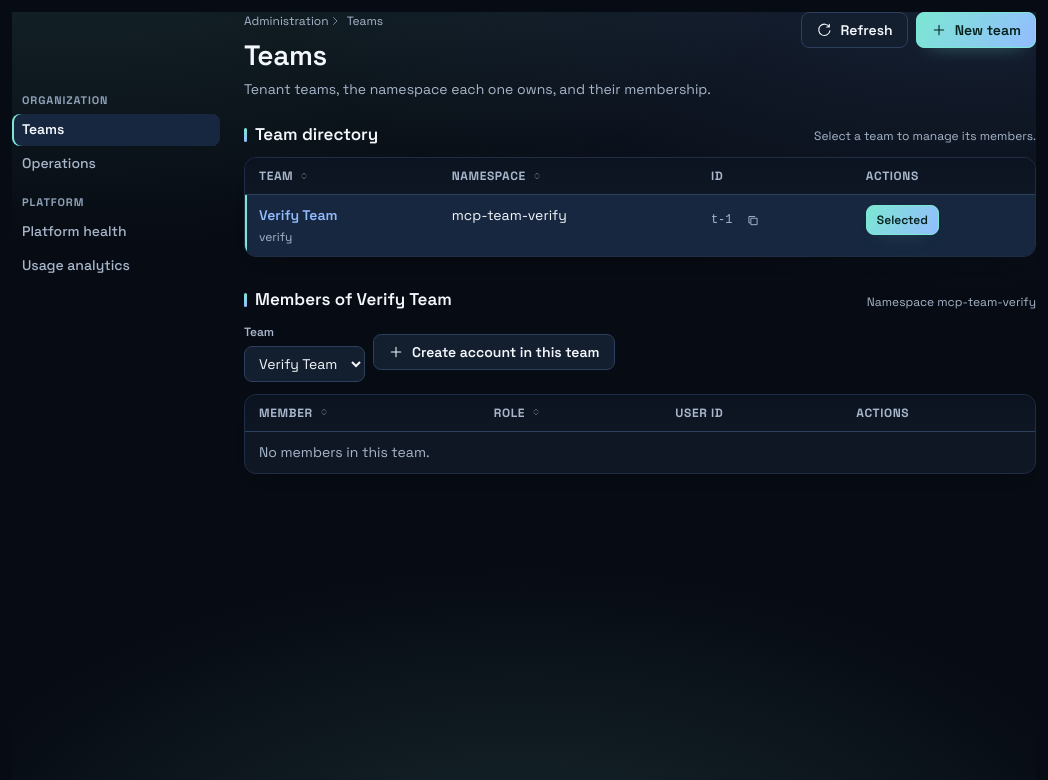
Test: AdminWorkspace sections › renders operations users, audit trail, and image activity
expect the table with test id "teams-table" is shown: met, box [245,158,1035,256]
Click the button with test id "admin-section-operations" at (116, 164), box [12,148,220,180]
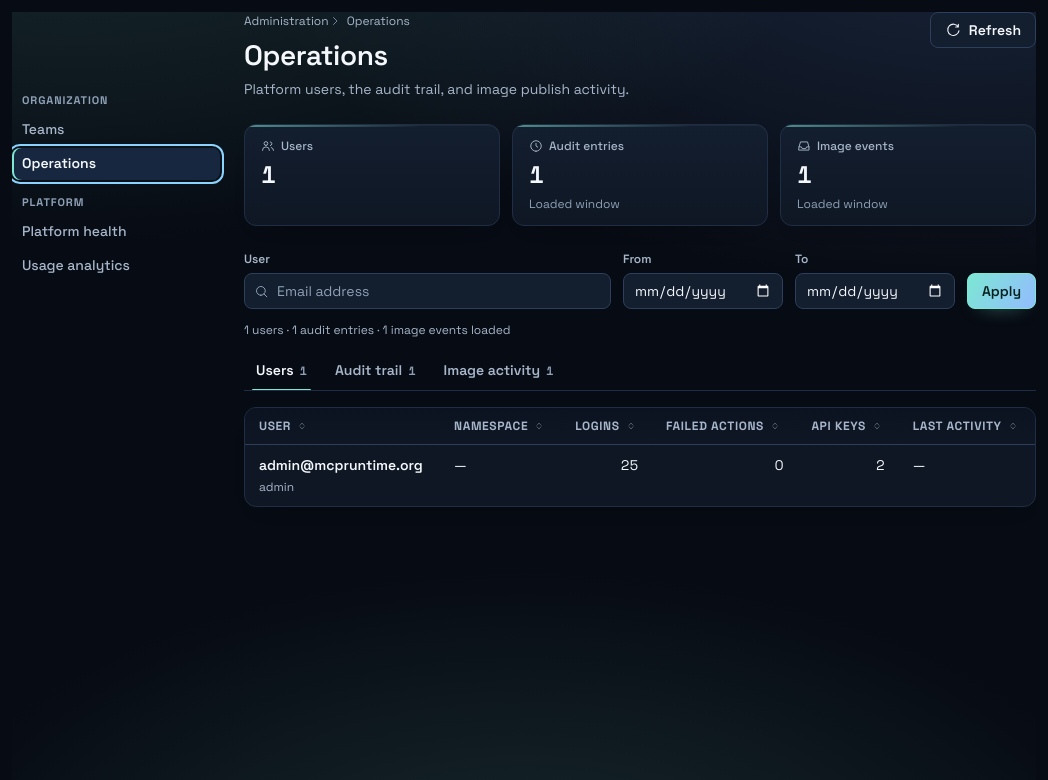
expect the table with test id "operations-users-table" shows "admin@mcpruntime.org": met, box [259,456,423,474]
// Users, the audit trail, and image activity are separate local sections.
Click the tab with test id "operations-tab-audit" at (375, 370), box [323,351,428,390]
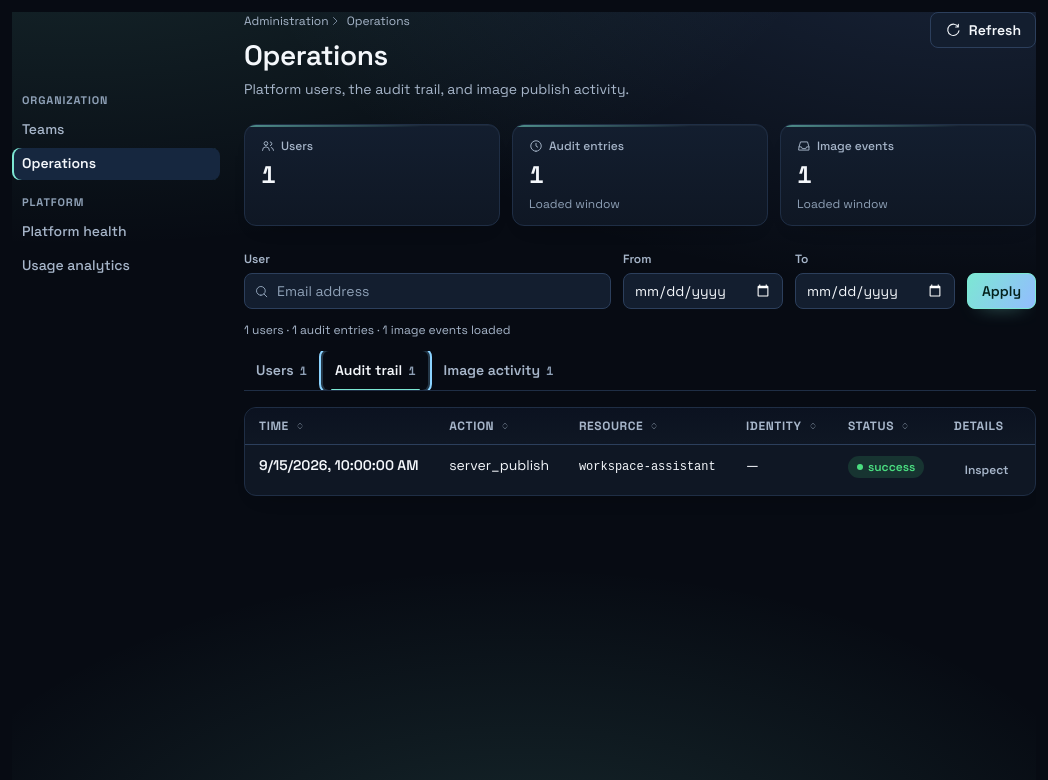
expect the table with test id "operations-audit-table" shows "server_publish": met, box [449,456,549,474]
Click the tab with test id "operations-tab-images" at (499, 370), box [432,351,566,390]
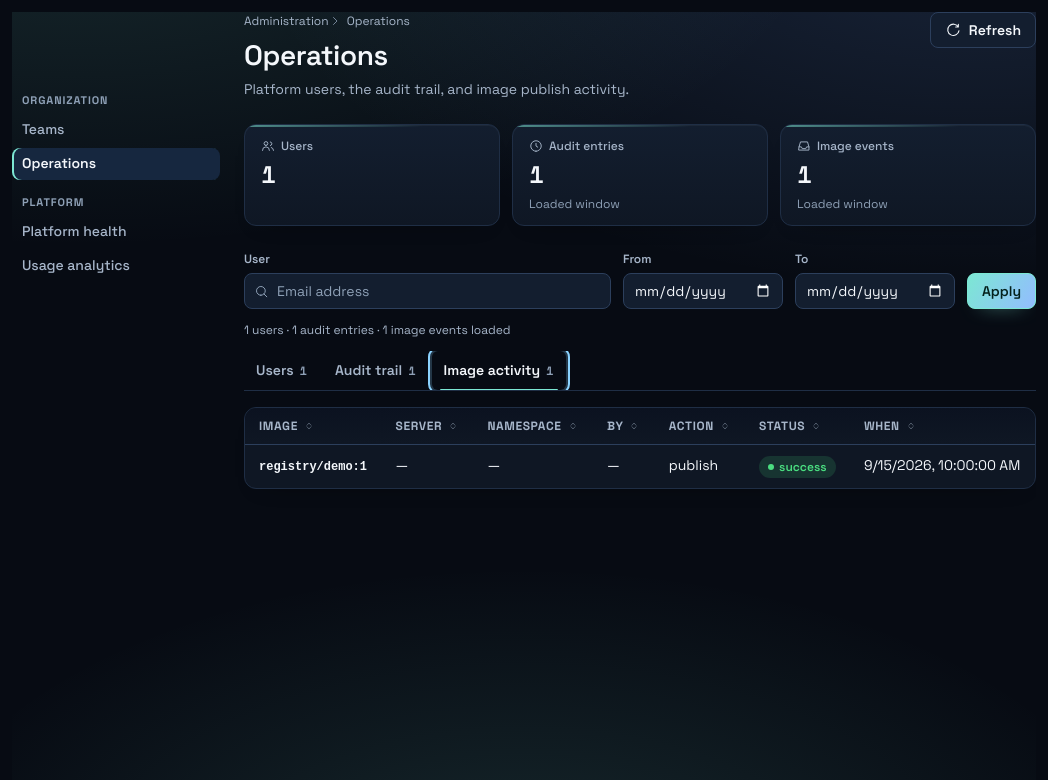
expect the table with test id "operations-images-table" shows "registry/demo:1": met, box [259,460,367,474]
